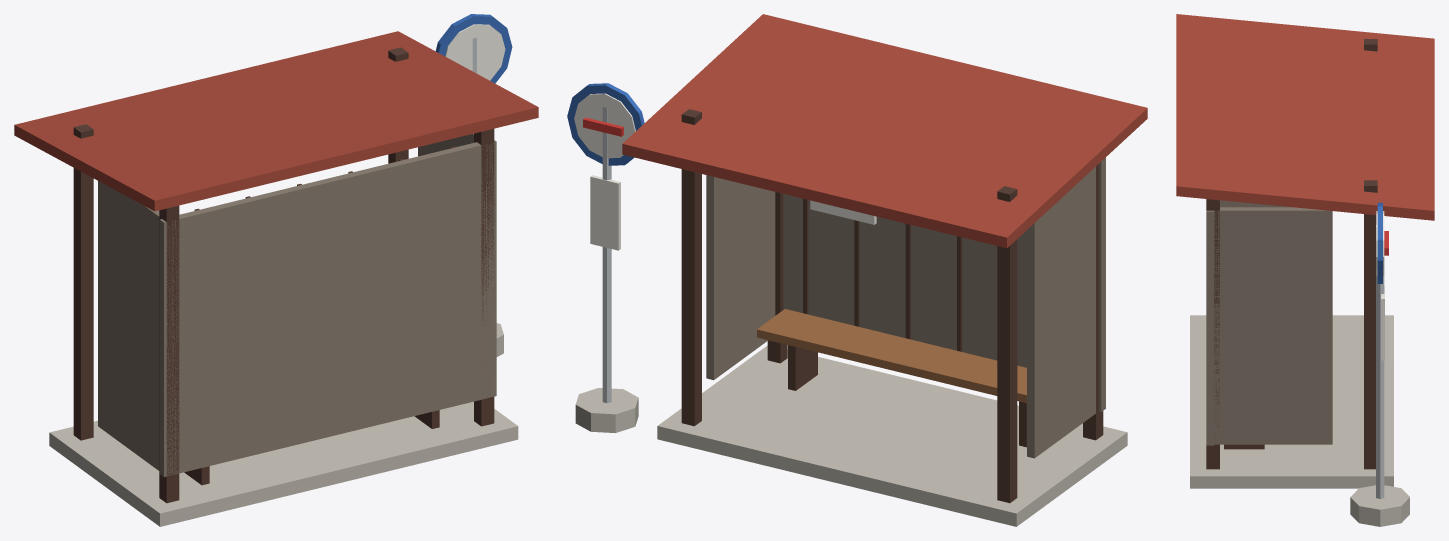
File: bus_stop.glb
The picture shows the model from 3 angles, left to right: view 1: azimuth 30°, elevation 25°; view 2: azimuth 150°, elevation 25°; view 3: azimuth 270°, elevation 25°; orthographic projection. The views are drawn at different scales.
Visible parts, largest first — view 1: bus_stop; view 2: bus_stop; view 3: bus_stop.
Boxes of the visible parts, x1,y1,x2,y2 form: bus_stop: (14,14,538,526); bus_stop: (567,14,1147,526); bus_stop: (1176,14,1434,526).
Bounding box in the file's own units: 3.65 × 2.5 × 1.9.
